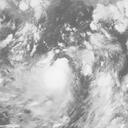cyclone: (17, 57, 78, 120)
